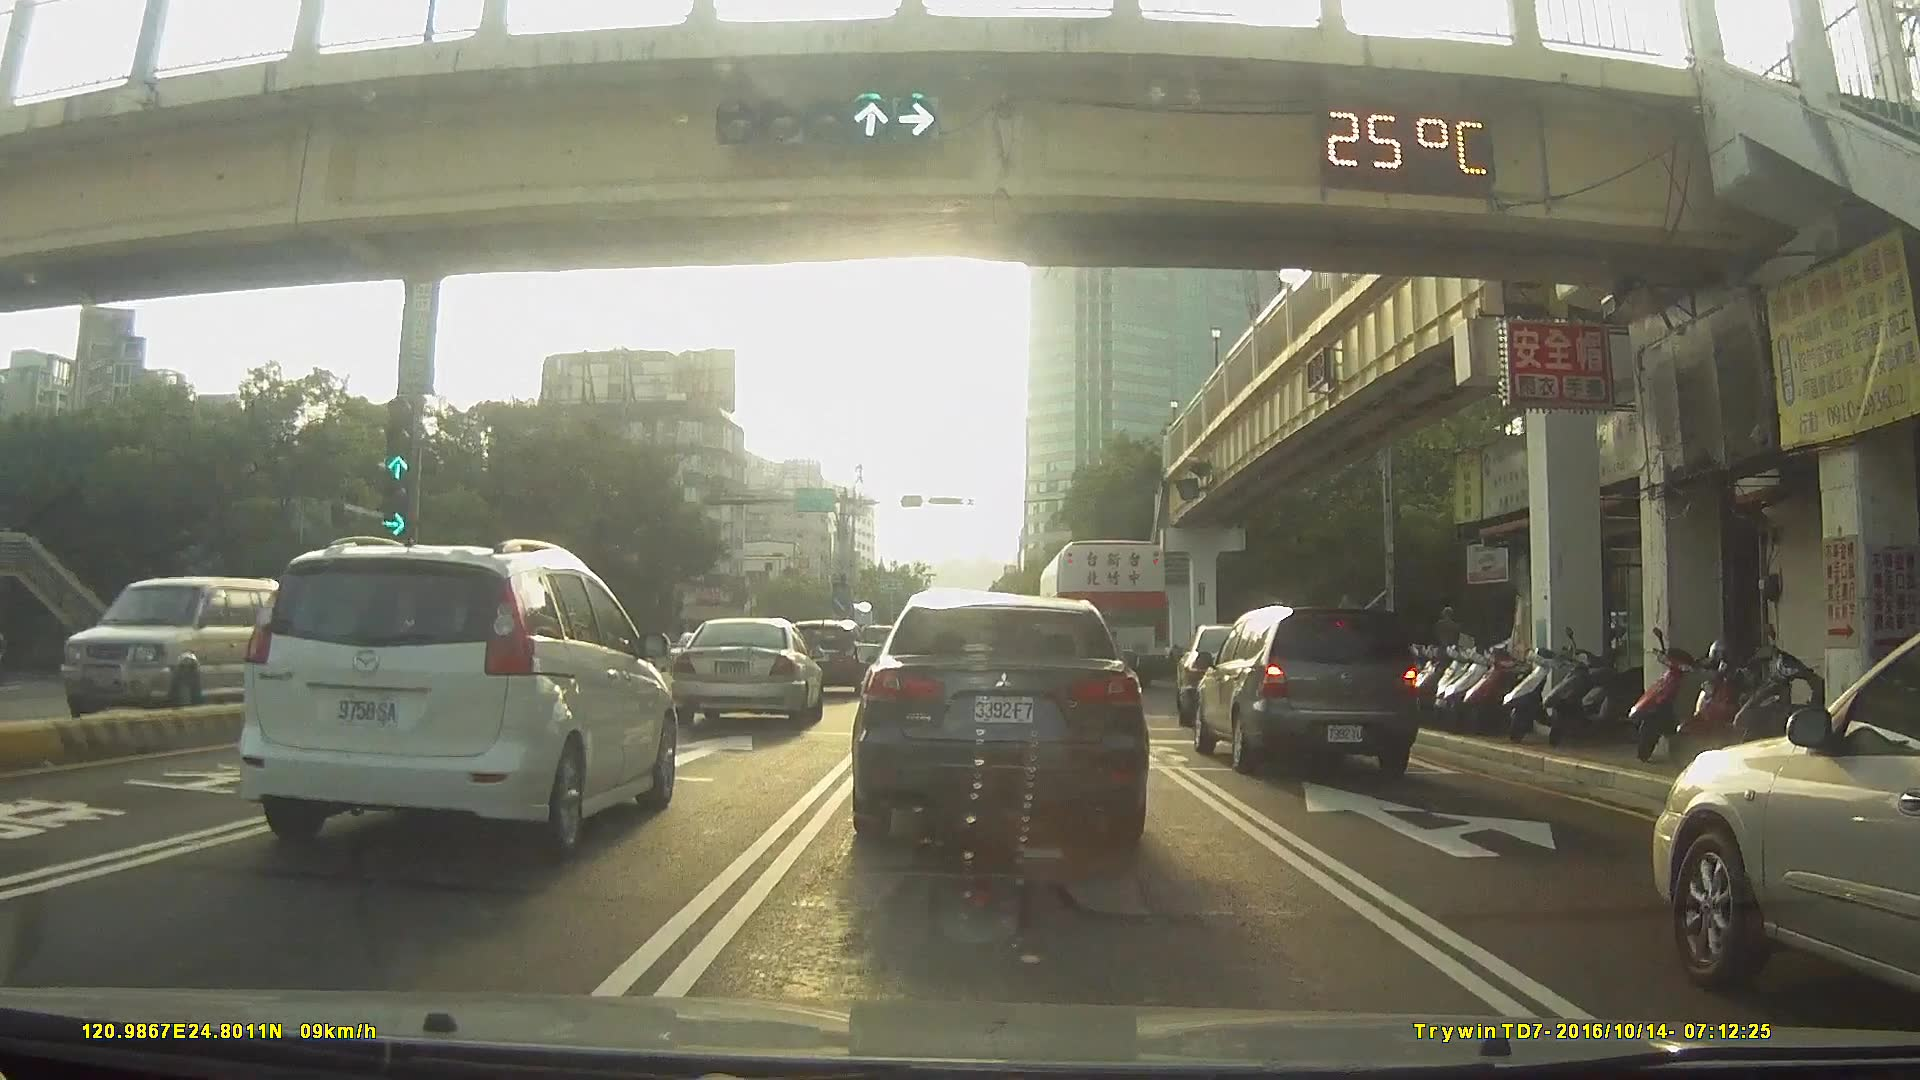vehicle: (228, 535, 683, 860), (1648, 629, 1920, 1000), (851, 589, 1147, 855), (1191, 604, 1419, 781), (47, 570, 270, 723), (1034, 539, 1172, 688), (670, 615, 822, 728), (1182, 621, 1302, 720), (781, 621, 865, 698), (647, 633, 705, 680)
